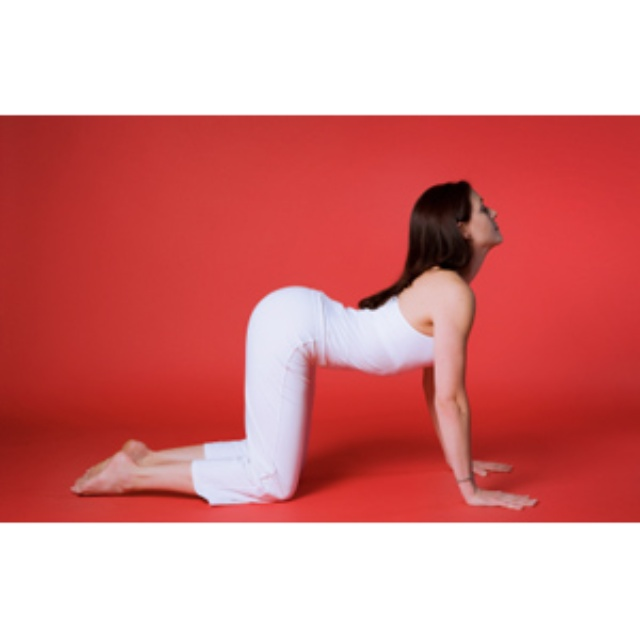Cow_Pose: (67, 179, 541, 509)
